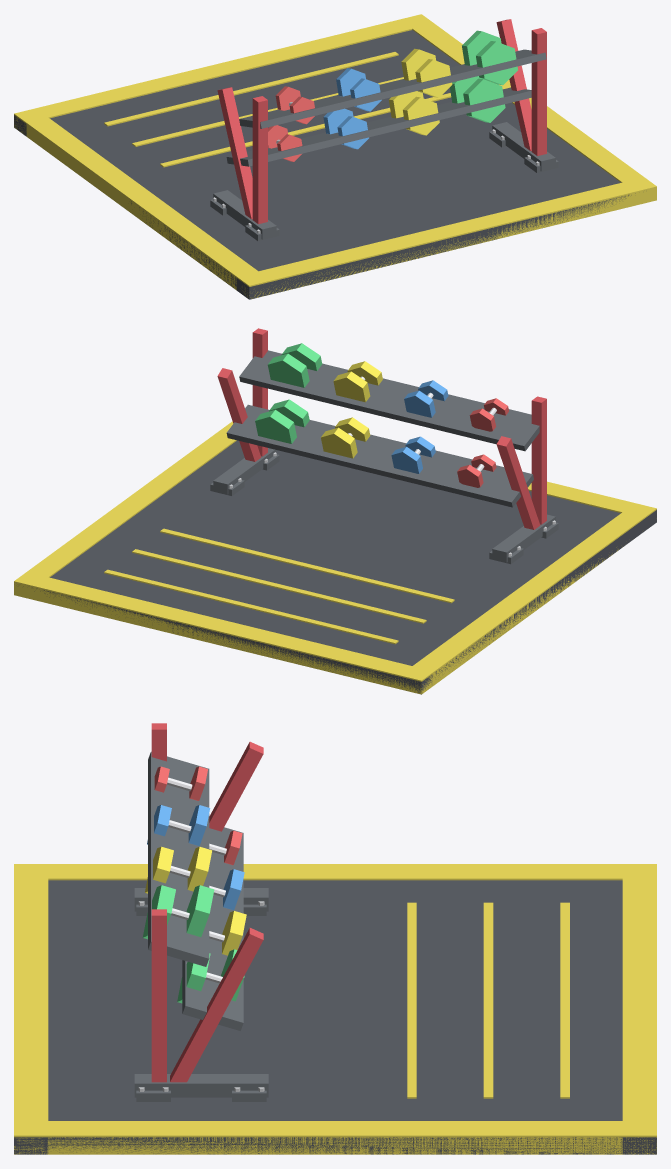
File: Table1_DumbbellRack.fbx
3 views of the same model, one above another, from view 1: azimuth 30°, elevation 25°; view 2: azimuth 150°, elevation 25°; view 3: azimuth 270°, elevation 25° (orthographic). The views are drawn at different scales.
Visible parts, largest first — view 1: Table1, Table1_RimNS_-1, Table1_RimEW_-1, Table1_RimNS_1, Cube.011, Cube.010, Table1_RimEW_1, Cube.003, Cube.008, Cube.004, Cube.014, Cube.009 (+16 smaller); view 2: Table1, Table1_RimNS_1, Cube.011, Cube.010, Table1_RimEW_-1, Table1_RimEW_1, Cube.003, Cube.014, Cube.012, Cube.013, Cube.004, Table1_RimNS_-1 (+12 smaller); view 3: Table1, Table1_RimEW_1, Table1_RimNS_-1, Table1_RimNS_1, Table1_RimEW_-1, Cube.011, Cube.010, Cube.009, Cube.008, Cube.005, Cube.013, Cube.012 (+10 smaller).
Part boxes in pixels (bbox=[...]): Table1: bbox=[14, 30, 635, 299]; Table1_RimNS_-1: bbox=[236, 177, 656, 298]; Table1_RimEW_-1: bbox=[26, 117, 257, 290]; Table1_RimNS_1: bbox=[14, 14, 433, 134]; Cube.011: bbox=[239, 49, 546, 128]; Cube.010: bbox=[226, 87, 531, 166]; Table1_RimEW_1: bbox=[412, 23, 643, 182]; Cube.003: bbox=[252, 96, 267, 224]; Cube.008: bbox=[531, 28, 546, 155]; Cube.004: bbox=[217, 87, 252, 219]; Cube.014: bbox=[104, 52, 398, 126]; Cube.009: bbox=[496, 19, 531, 150]; Table1: bbox=[23, 440, 656, 694]; Table1_RimNS_1: bbox=[14, 572, 434, 694]; Cube.011: bbox=[239, 350, 539, 451]; Cube.010: bbox=[226, 404, 533, 507]; Table1_RimEW_-1: bbox=[413, 512, 644, 684]; Table1_RimEW_1: bbox=[27, 421, 236, 577]; Cube.003: bbox=[531, 396, 546, 524]; Cube.014: bbox=[104, 569, 398, 644]; Cube.012: bbox=[160, 528, 454, 603]; Cube.013: bbox=[132, 549, 426, 623]; Cube.004: bbox=[496, 436, 540, 529]; Table1_RimNS_-1: bbox=[528, 481, 656, 518]; Table1: bbox=[14, 880, 656, 1154]; Table1_RimEW_1: bbox=[48, 1121, 622, 1154]; Table1_RimNS_-1: bbox=[14, 864, 48, 1154]; Table1_RimNS_1: bbox=[622, 864, 656, 1154]; Table1_RimEW_-1: bbox=[48, 864, 622, 880]; Cube.011: bbox=[148, 751, 209, 966]; Cube.010: bbox=[182, 827, 243, 1030]; Cube.009: bbox=[170, 928, 263, 1082]; Cube.008: bbox=[151, 909, 166, 1082]; Cube.005: bbox=[134, 1074, 268, 1097]; Cube.013: bbox=[483, 902, 493, 1098]; Cube.012: bbox=[407, 902, 416, 1098].
Bounding box in the file's own units: 3.36 × 3.36 × 1.15.
